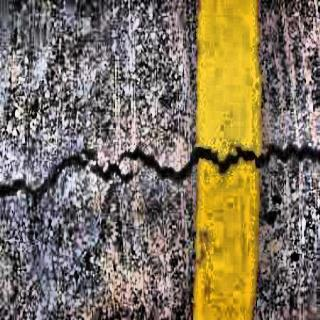crack: (0, 143, 320, 203)
